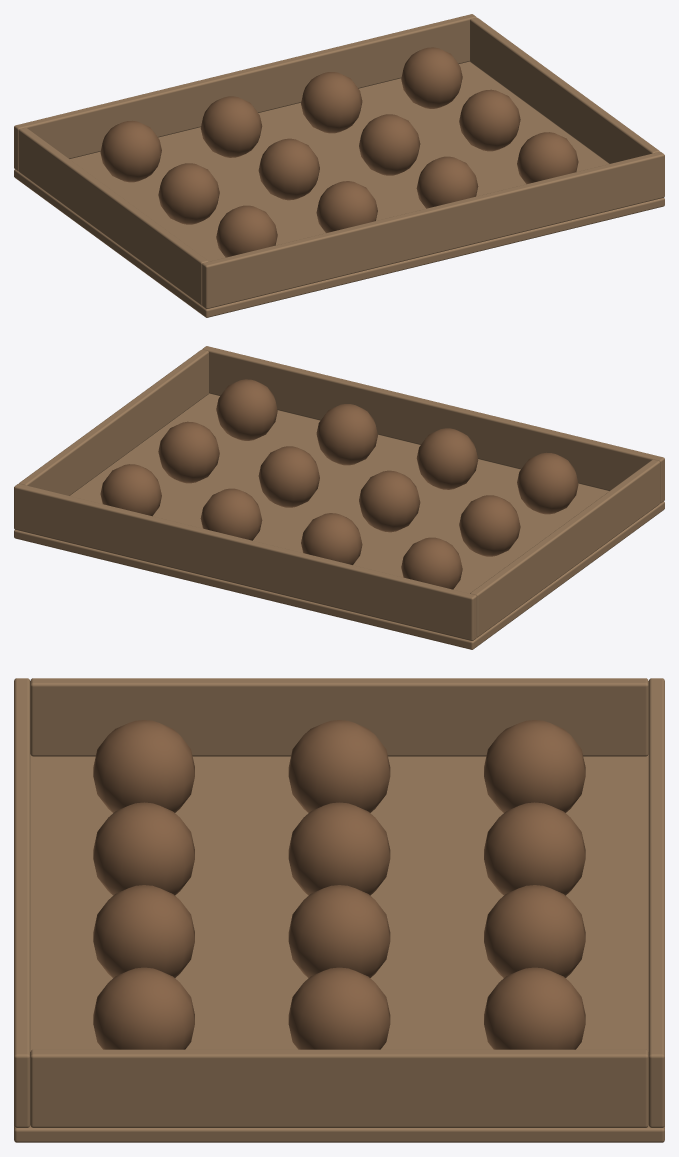
Rendered from chocolate-making-and-confectionery-truffle-rolling-tra-9e297394__39166.glb.
3 views of the same model, one above another, from view 1: azimuth 30°, elevation 25°; view 2: azimuth 150°, elevation 25°; view 3: azimuth 270°, elevation 25° (orthographic). The views are drawn at different scales.
Parts seen in each view (by area): view 1: truffle-rolling-tray; view 2: truffle-rolling-tray; view 3: truffle-rolling-tray.
Boxes of the visible parts, left/top/right/bottom form: truffle-rolling-tray: left=14, top=14, right=664, bottom=317; truffle-rolling-tray: left=14, top=346, right=664, bottom=649; truffle-rolling-tray: left=14, top=678, right=664, bottom=1142.
Bounding box in the file's own units: 0.55 × 0.072 × 0.4.
